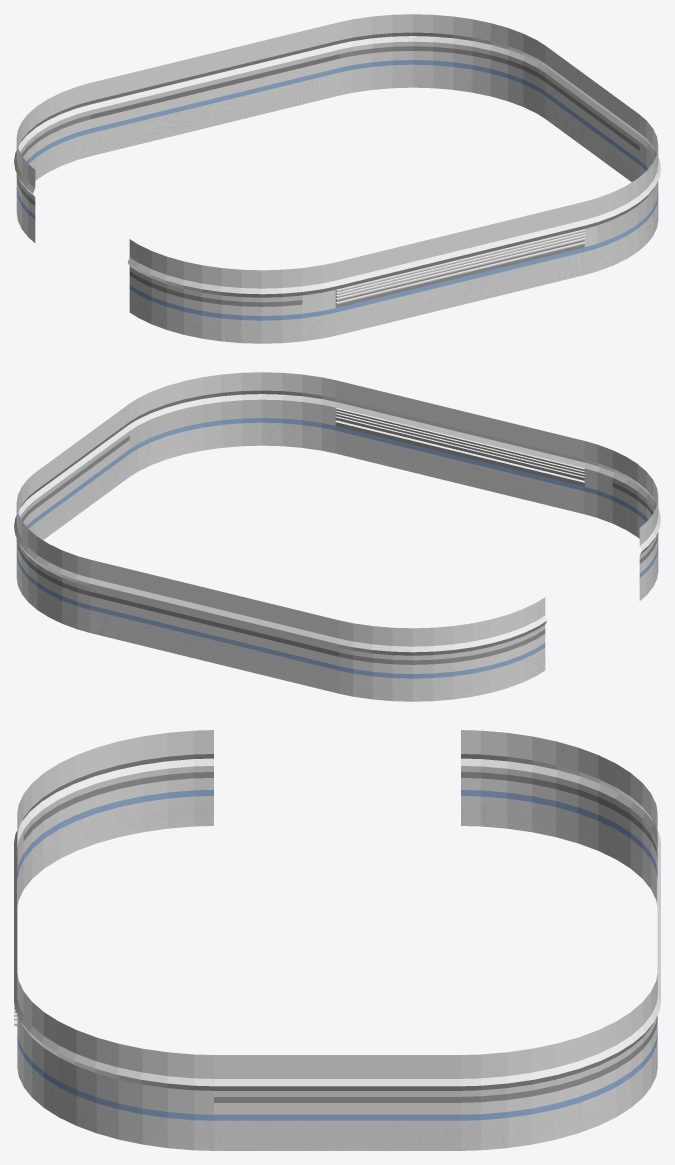
The model's file is stadium_v7.glb.
3 renders of one model, top to bottom at view 1: azimuth 30°, elevation 25°; view 2: azimuth 150°, elevation 25°; view 3: azimuth 270°, elevation 25°, orthographic. The views are drawn at different scales.
Visible parts, largest first — view 1: SketchUp.1486; view 2: SketchUp.1486; view 3: SketchUp.1486.
Part boxes in pixels (<box>): SketchUp.1486: <box>14,14,660,343</box>; SketchUp.1486: <box>14,372,660,701</box>; SketchUp.1486: <box>14,730,660,1150</box>.
Size of the model in its own units: 235 by 32.1 by 196.
6 materials, 1 textured.
